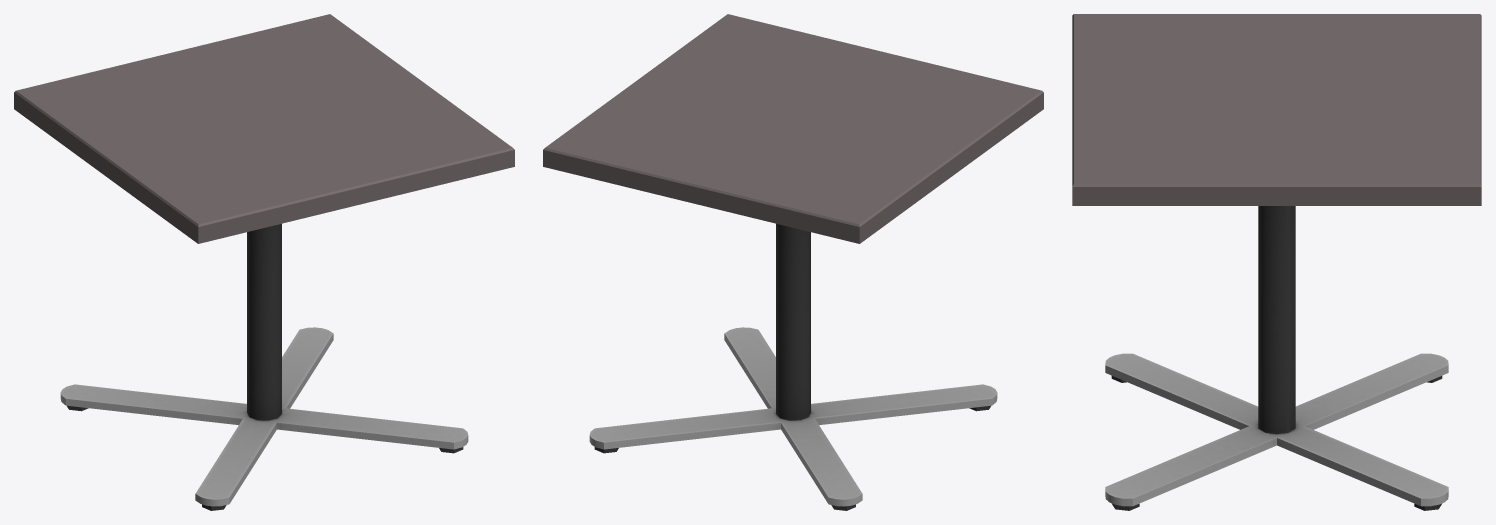
The model's file is Table_Black.fbx.
The picture shows the model from 3 angles, left to right: view 1: azimuth 30°, elevation 25°; view 2: azimuth 150°, elevation 25°; view 3: azimuth 270°, elevation 25°; orthographic projection. The views are drawn at different scales.
Visible parts, largest first — view 1: Table_Black; view 2: Table_Black; view 3: Table_Black.
Part boxes in pixels (box(x1,y1,x2,y2)): Table_Black: box(14, 14, 514, 510); Table_Black: box(543, 14, 1043, 510); Table_Black: box(1072, 14, 1481, 510).
Bounding box in the file's own units: 83.32 × 77.37 × 83.96.
